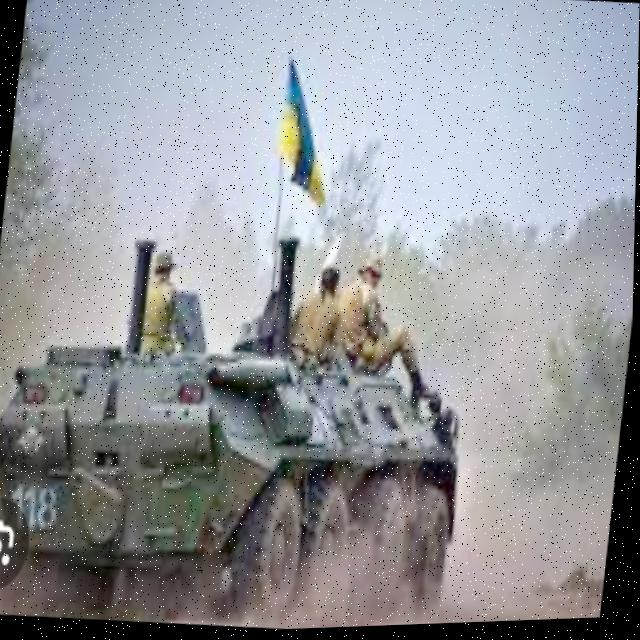MIL_APC: (0, 295, 478, 634)
